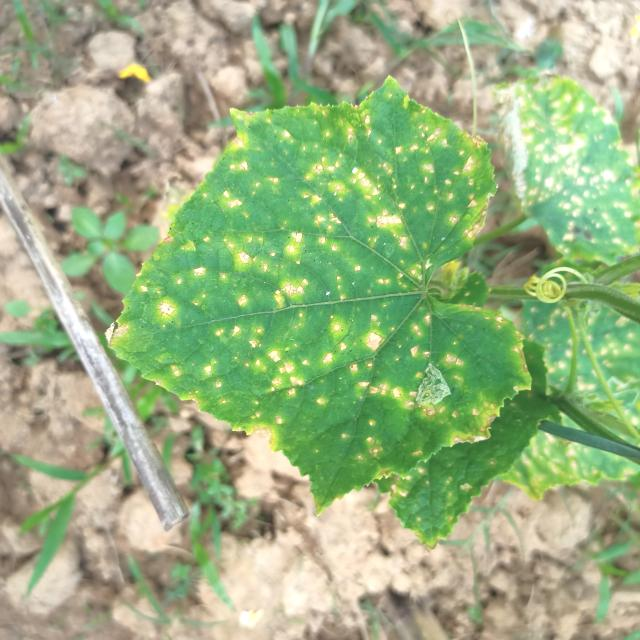disease_cucumber: (131, 103, 512, 470)
